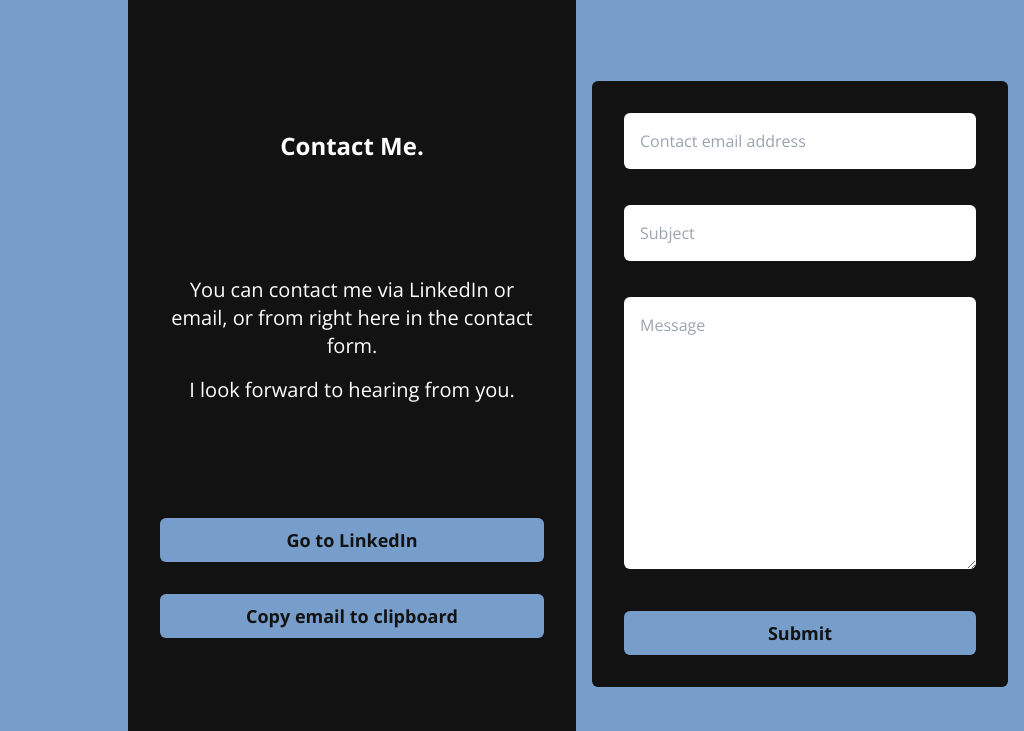
Test: Contact Page › should show success well if error response returned from server
Type "example@email.com" into the field with placeholder "Contact email address" at x=800, y=141, box x1=624 y1=113 x2=976 y2=169
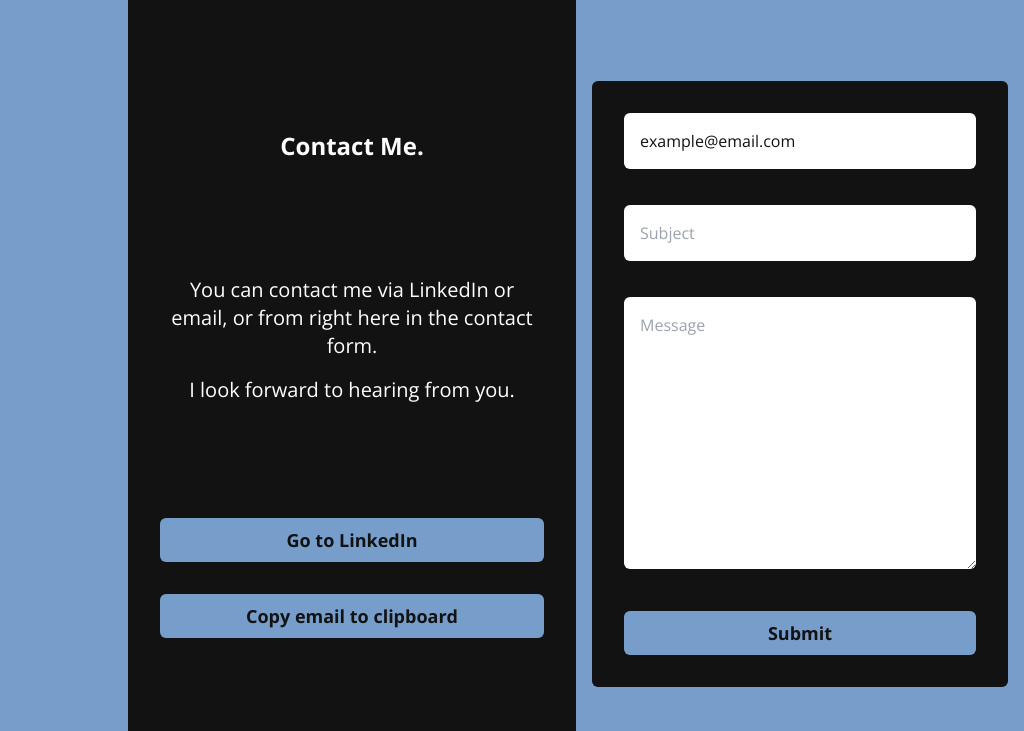
Type "Test subject" into the field with placeholder "Subject" at x=800, y=233, box x1=624 y1=205 x2=976 y2=261
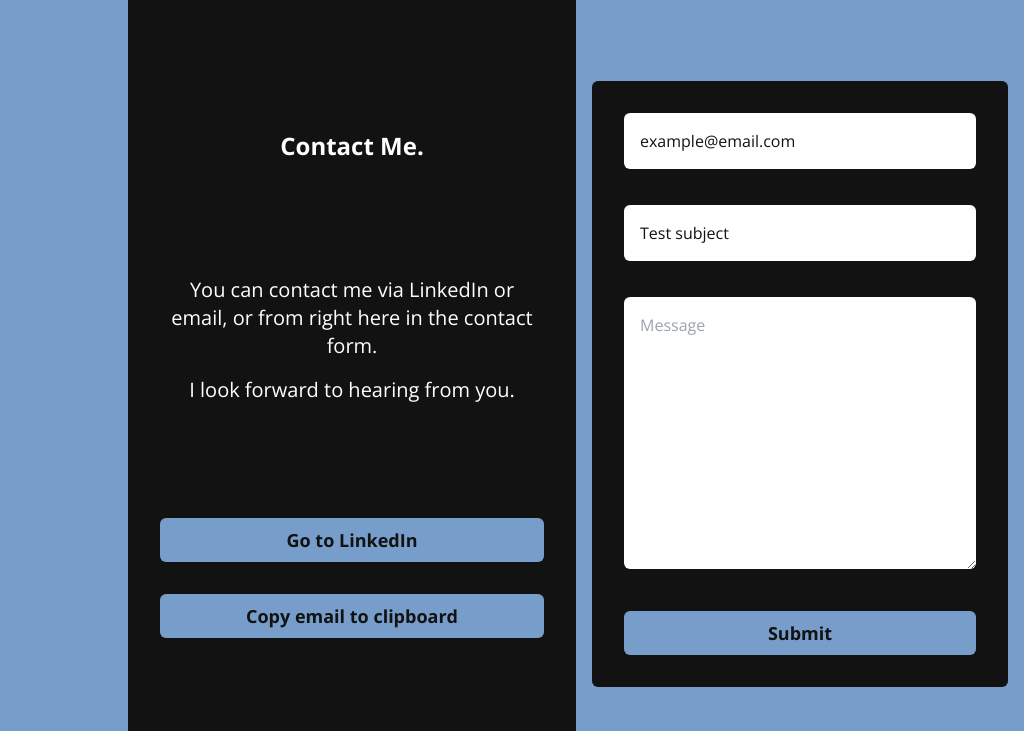
Type "Test message" into the text box with placeholder "Message" at x=800, y=433, box x1=624 y1=297 x2=976 y2=569
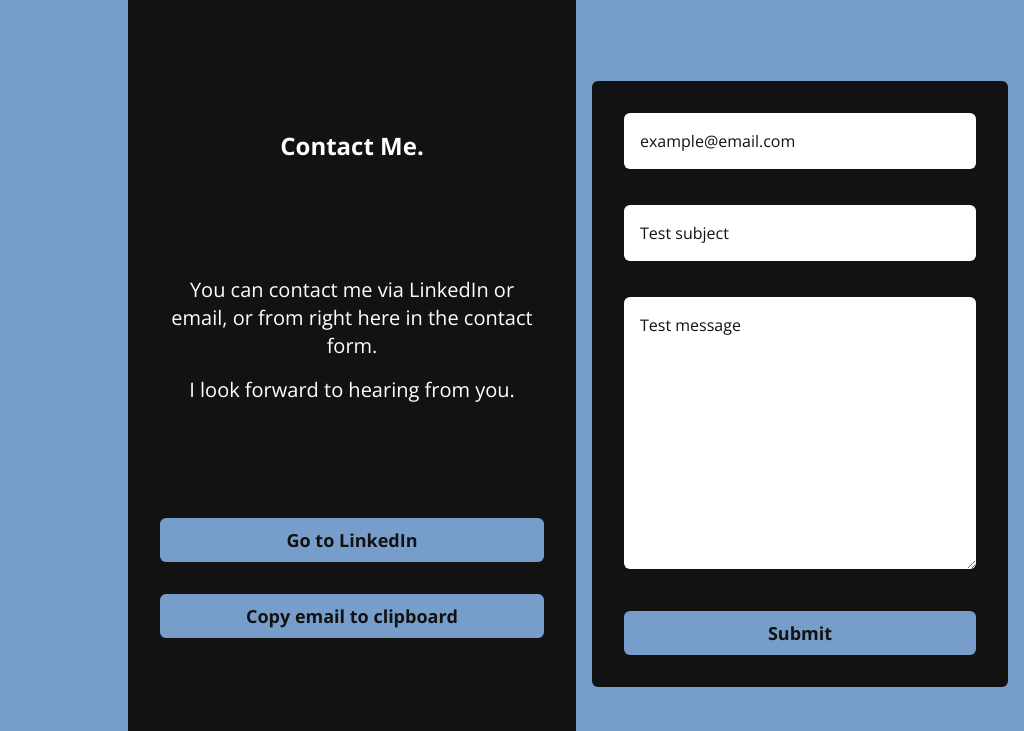
Click the button "Submit" at x=800, y=633, box x1=624 y1=611 x2=976 y2=655
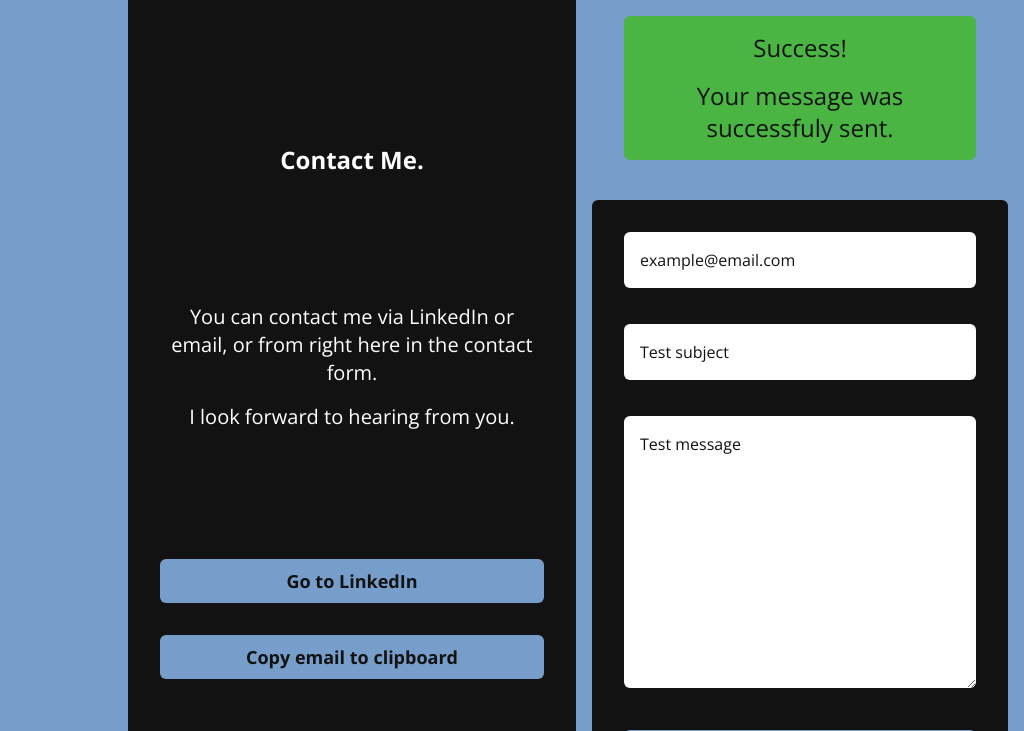
Expected: the heading "Success!" is shown, x1=753 y1=32 x2=847 y2=64
